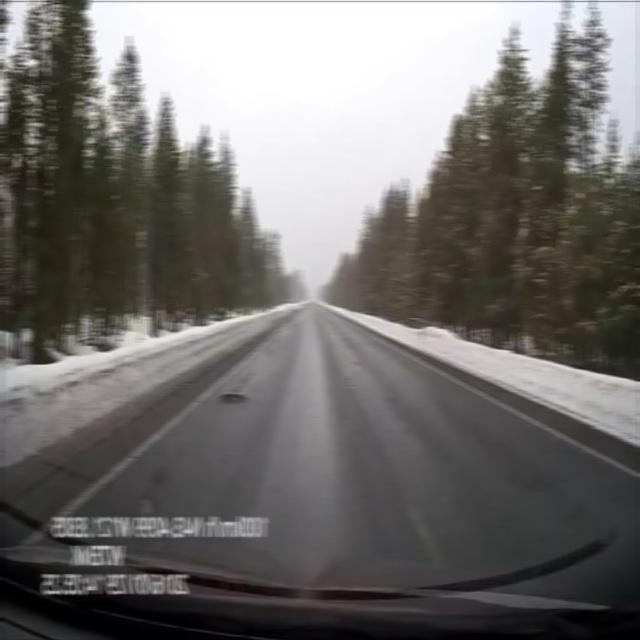Pothole: (212, 392, 253, 410), (131, 497, 160, 515)
